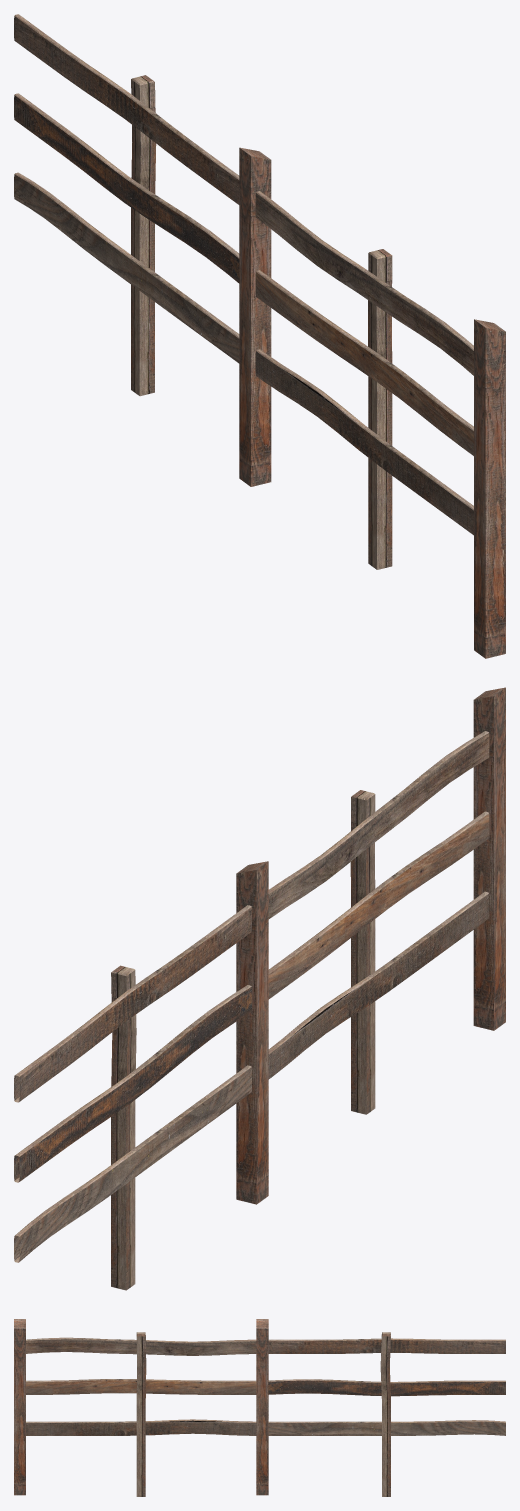
Rendered from fence1.fbx.
3 views of the same model, one above another, from view 1: azimuth 30°, elevation 25°; view 2: azimuth 150°, elevation 25°; view 3: azimuth 270°, elevation 25° (orthographic). The views are drawn at different scales.
Parts seen in each view (by area): view 1: Fence without end.001; view 2: Fence without end.001; view 3: Fence without end.001.
Boxes of the visible parts, bbox=[...] form: Fence without end.001: bbox=[14, 14, 505, 658]; Fence without end.001: bbox=[14, 687, 505, 1290]; Fence without end.001: bbox=[14, 1319, 505, 1496].
Bounding box in the file's own units: 10.57 × 131 × 342.
1 material, 1 textured.
